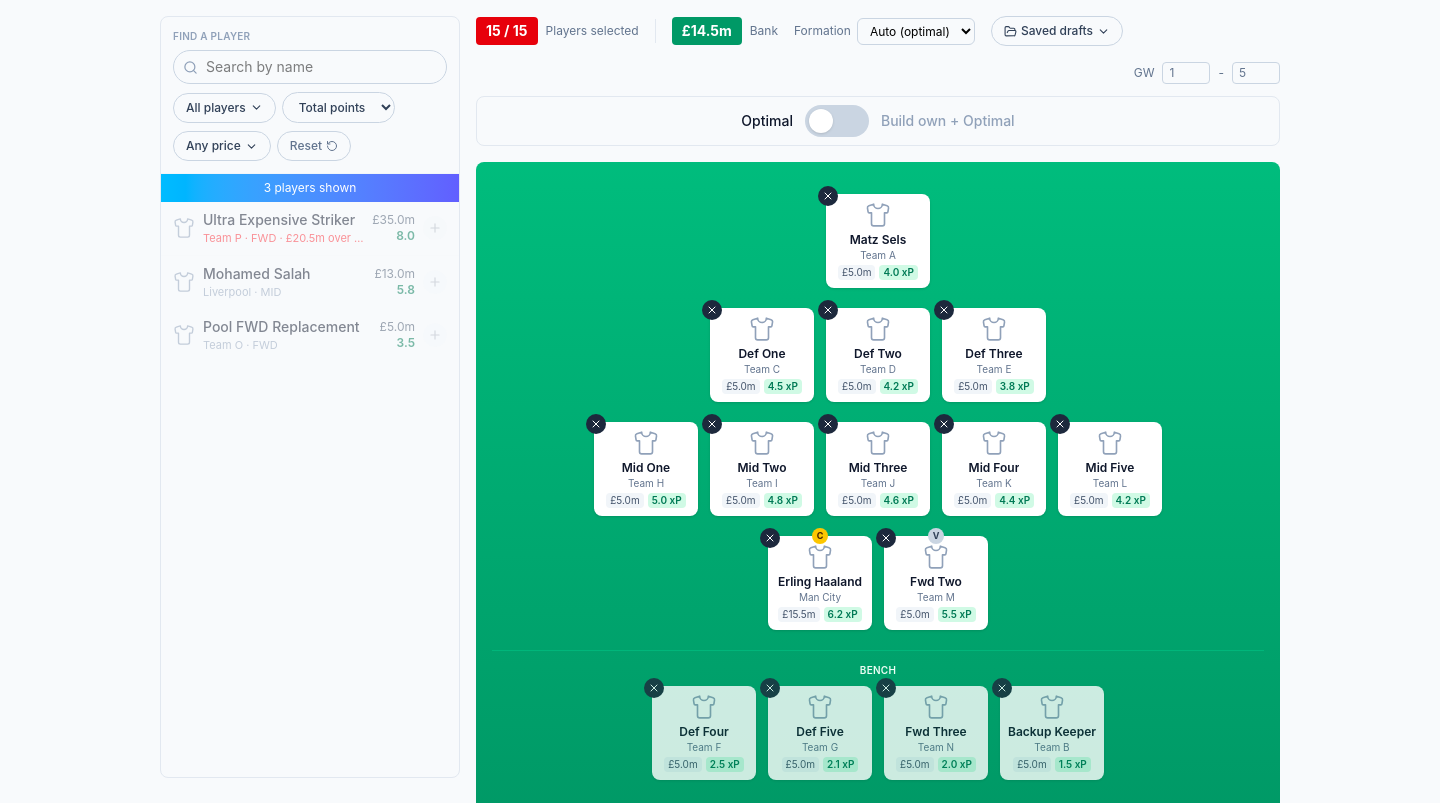
Test case: SquadBuilder › adding an eligible candidate fills the empty slot
The width and height of the screenshot is (1440, 803).
Click the button named "Remove Erling Haaland": (770, 538) [760, 528, 780, 548]
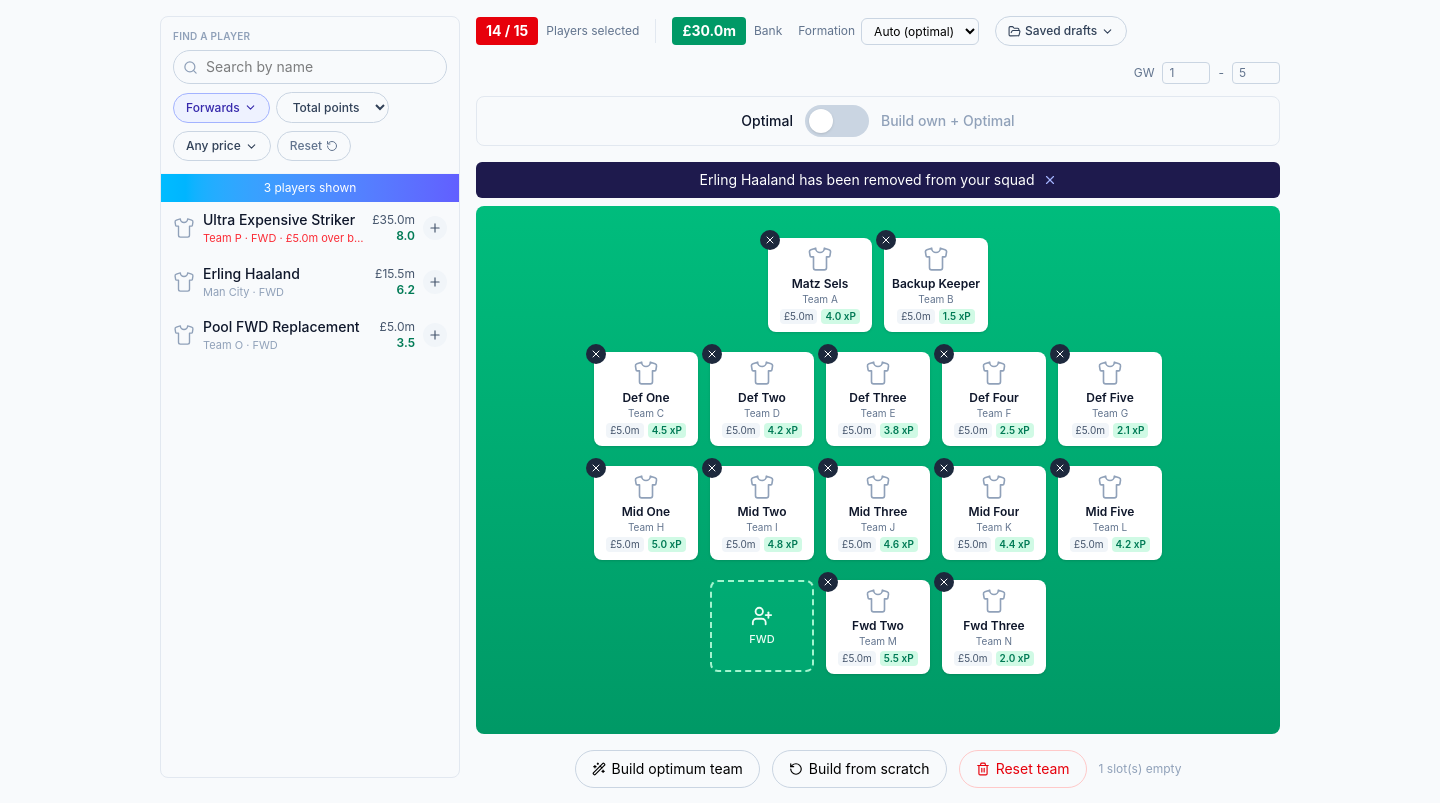
Click the button named "Add Pool FWD Replacement": (435, 335) [423, 323, 447, 347]
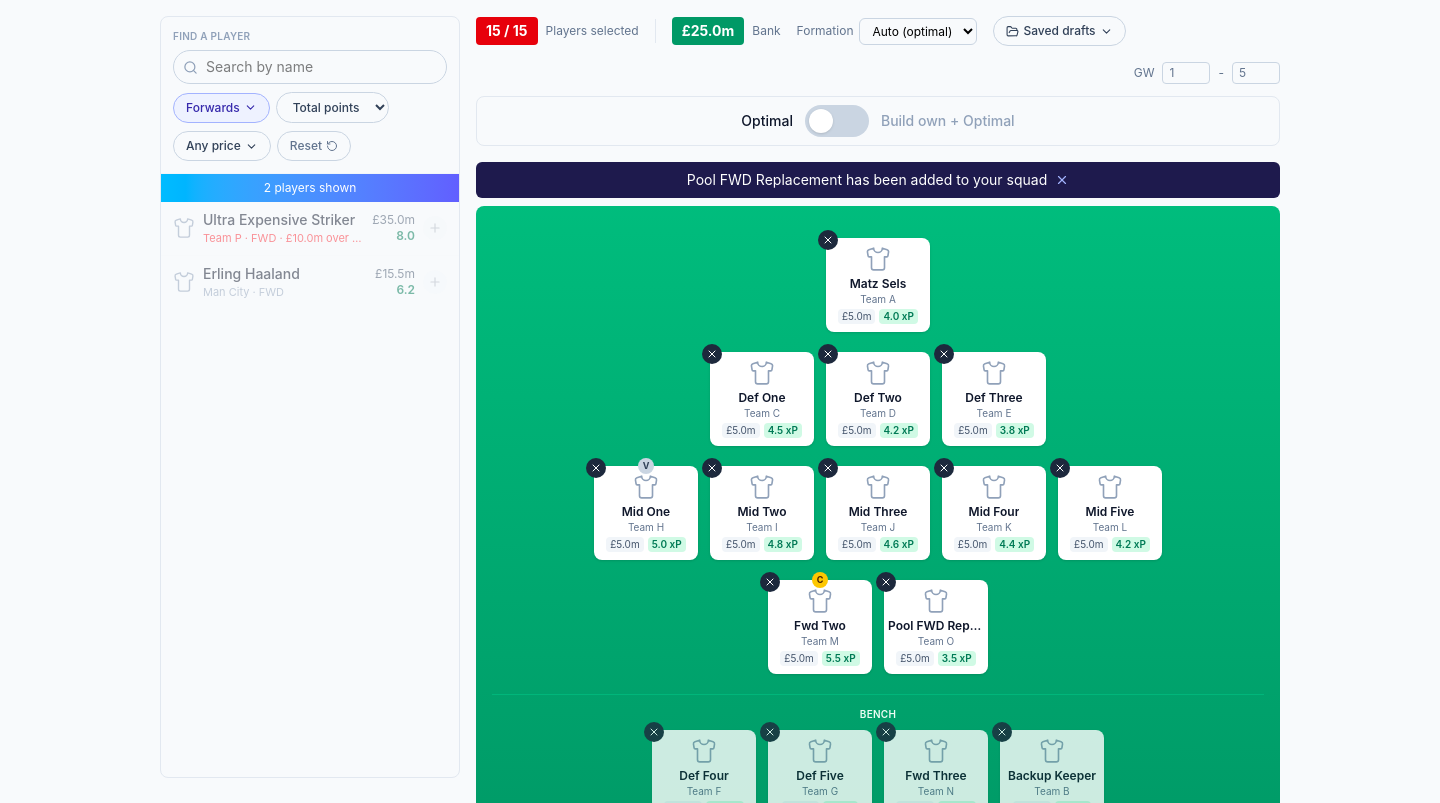
Expected: the text "Pool FWD Replacement has been added to your squad" is shown, [476, 162, 1280, 198]
Expected: the text "15 / 15" is shown, [476, 17, 538, 45]
